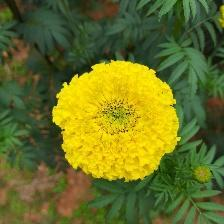marigold: (53, 60, 184, 183)
